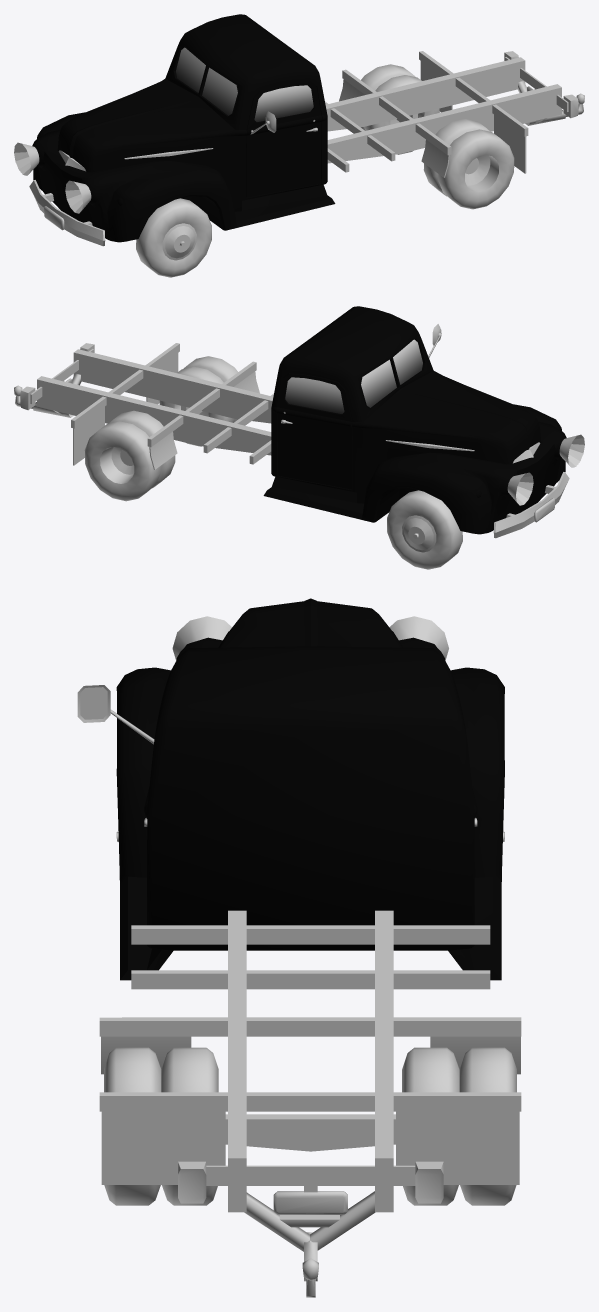
File: TFP_Utility_Pick_Up_02A.fbx
The picture shows the model from 3 angles, top to bottom: view 1: azimuth 30°, elevation 25°; view 2: azimuth 150°, elevation 25°; view 3: azimuth 270°, elevation 25°; orthographic projection. The views are drawn at different scales.
Parts seen in each view (by area): view 1: TFP_Utility_Pick_Up_02A_Body_LOD0, TFP_Utility_Pick_Up_02A_Door_L_LOD0, TFP_Utility_Pick_Up_02A_Wheel_R.L_LOD0, TFP_Utility_Pick_Up_02A_Wheel_F.L_LOD0, TFP_Utility_Pick_Up_02A_Wheel_R.R_LOD0, TFP_Utility_Pick_Up_02A_Lights_LOD0; view 2: TFP_Utility_Pick_Up_02A_Body_LOD0, TFP_Utility_Pick_Up_02A_Door_R_LOD0, TFP_Utility_Pick_Up_02A_Wheel_R.R_LOD0, TFP_Utility_Pick_Up_02A_Wheel_F.R_LOD0, TFP_Utility_Pick_Up_02A_Wheel_R.L_LOD0, TFP_Utility_Pick_Up_02A_Lights_LOD0; view 3: TFP_Utility_Pick_Up_02A_Body_LOD0, TFP_Utility_Pick_Up_02A_Wheel_R.R_LOD0, TFP_Utility_Pick_Up_02A_Wheel_R.L_LOD0, TFP_Utility_Pick_Up_02A_Lights_LOD0, TFP_Utility_Pick_Up_02A_Door_L_LOD0.
Boxes of the visible parts, x1,y1,x2,y2 form: TFP_Utility_Pick_Up_02A_Body_LOD0: (29,14,584,246); TFP_Utility_Pick_Up_02A_Door_L_LOD0: (246,81,322,197); TFP_Utility_Pick_Up_02A_Wheel_R.L_LOD0: (423,119,514,209); TFP_Utility_Pick_Up_02A_Wheel_F.L_LOD0: (136,198,211,277); TFP_Utility_Pick_Up_02A_Wheel_R.R_LOD0: (361,64,439,154); TFP_Utility_Pick_Up_02A_Lights_LOD0: (14,142,91,213); TFP_Utility_Pick_Up_02A_Body_LOD0: (14,306,569,538); TFP_Utility_Pick_Up_02A_Door_R_LOD0: (276,373,352,489); TFP_Utility_Pick_Up_02A_Wheel_R.R_LOD0: (84,410,175,501); TFP_Utility_Pick_Up_02A_Wheel_F.R_LOD0: (387,490,462,569); TFP_Utility_Pick_Up_02A_Wheel_R.L_LOD0: (159,356,237,446); TFP_Utility_Pick_Up_02A_Lights_LOD0: (507,434,584,505); TFP_Utility_Pick_Up_02A_Body_LOD0: (99,598,521,1297); TFP_Utility_Pick_Up_02A_Wheel_R.R_LOD0: (402,1047,516,1205); TFP_Utility_Pick_Up_02A_Wheel_R.L_LOD0: (104,1047,218,1205); TFP_Utility_Pick_Up_02A_Lights_LOD0: (172,616,448,660); TFP_Utility_Pick_Up_02A_Door_L_LOD0: (77,685,154,826).
Size of what is drawn, in the model's own units: 7.24 by 2.24 by 2.59.
